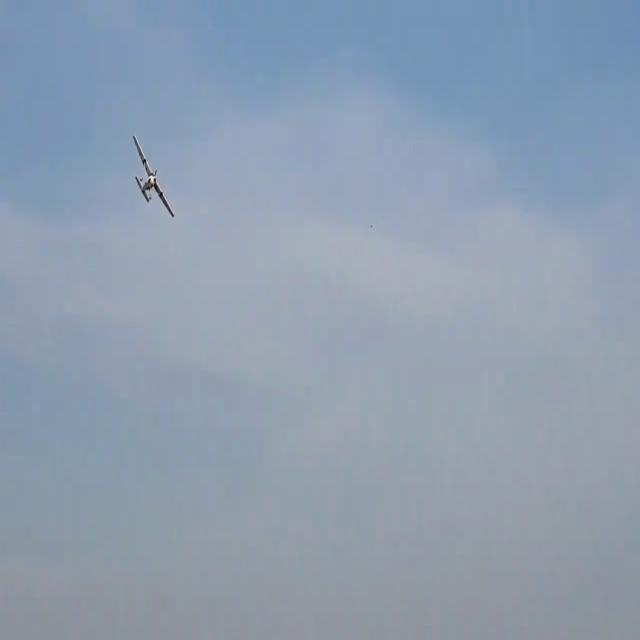iha: (132, 166, 174, 184)
